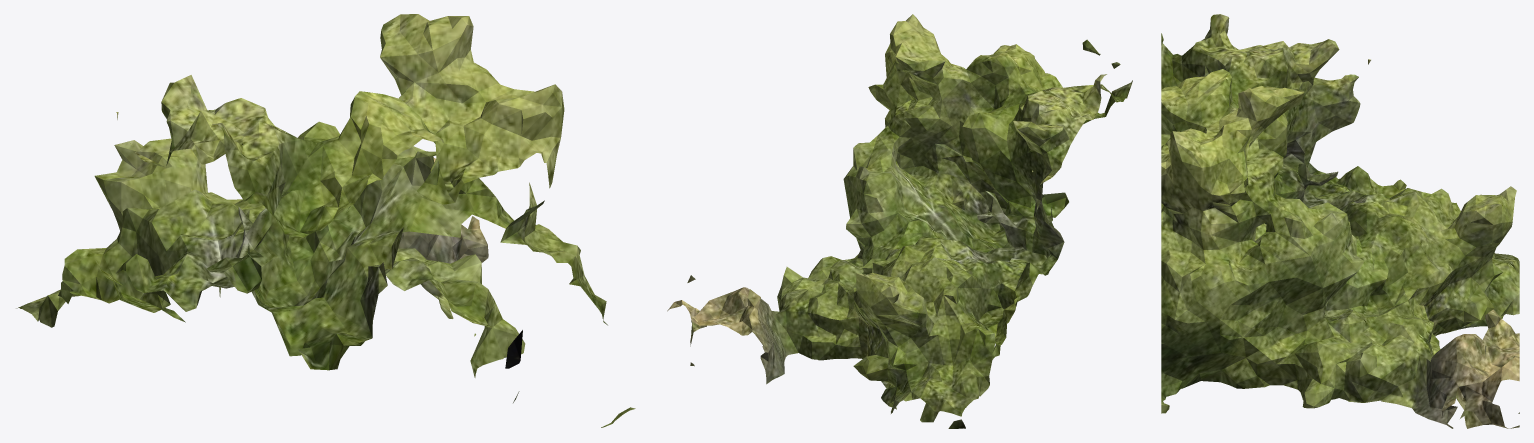
The picture shows the model from 3 angles, left to right: view 1: azimuth 30°, elevation 25°; view 2: azimuth 150°, elevation 25°; view 3: azimuth 270°, elevation 25°; orthographic projection. The views are drawn at different scales.
Size of the model in its own units: 5.9 by 5.16 by 5.9.
5 materials, 5 textured.
